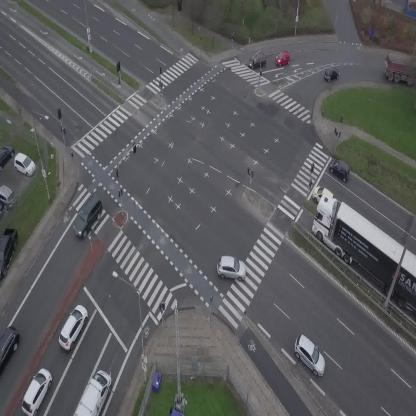car: (287, 333, 334, 379), (67, 194, 110, 241), (54, 302, 93, 352), (17, 366, 56, 416), (0, 324, 25, 376), (215, 255, 247, 282), (326, 155, 354, 182), (310, 182, 335, 203), (246, 53, 268, 70), (321, 65, 341, 83), (274, 50, 291, 67)
lorry: (73, 367, 117, 416)
